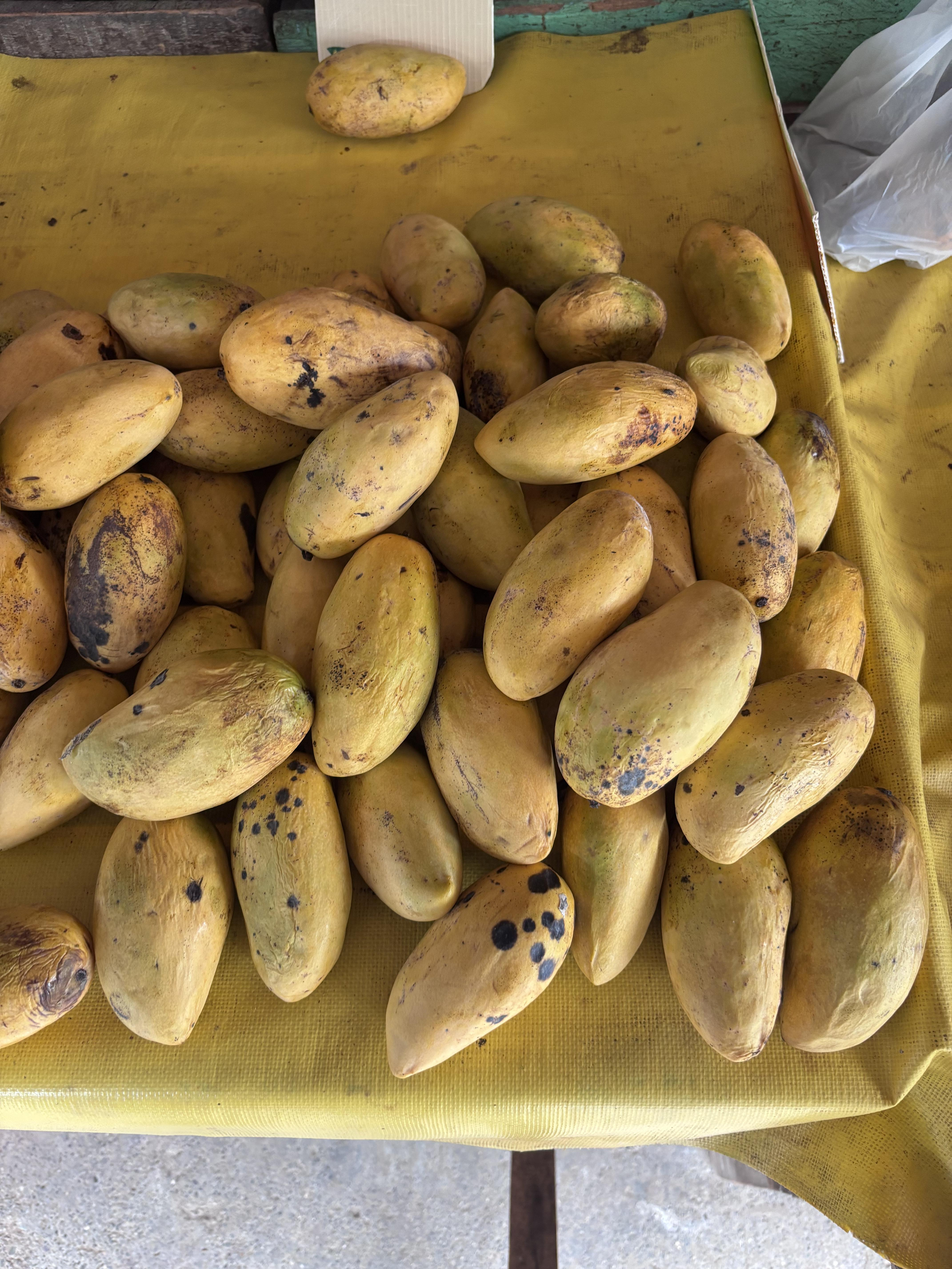mango: (555, 581, 761, 808), (61, 649, 314, 820), (386, 861, 574, 1078), (780, 787, 929, 1052), (483, 487, 653, 700), (284, 371, 459, 559), (312, 533, 440, 778), (231, 753, 352, 1002), (0, 360, 181, 511), (475, 361, 697, 484), (65, 472, 186, 674), (306, 43, 466, 138), (380, 213, 485, 330)
occluded: (675, 669, 875, 864), (92, 814, 234, 1045), (220, 287, 444, 431), (661, 826, 791, 1062), (421, 650, 558, 864), (0, 668, 127, 850), (335, 743, 462, 921), (412, 409, 533, 591), (560, 789, 668, 985), (690, 434, 799, 624), (579, 464, 696, 624), (464, 195, 625, 305), (146, 451, 256, 608), (158, 368, 315, 473), (678, 219, 792, 361), (106, 273, 263, 371), (756, 551, 866, 684), (0, 309, 125, 418), (0, 905, 94, 1048), (0, 507, 68, 692), (535, 274, 666, 369), (757, 408, 840, 557), (261, 543, 343, 688), (462, 288, 547, 423), (134, 605, 258, 690), (676, 336, 776, 441), (256, 459, 297, 578), (0, 289, 71, 353)
